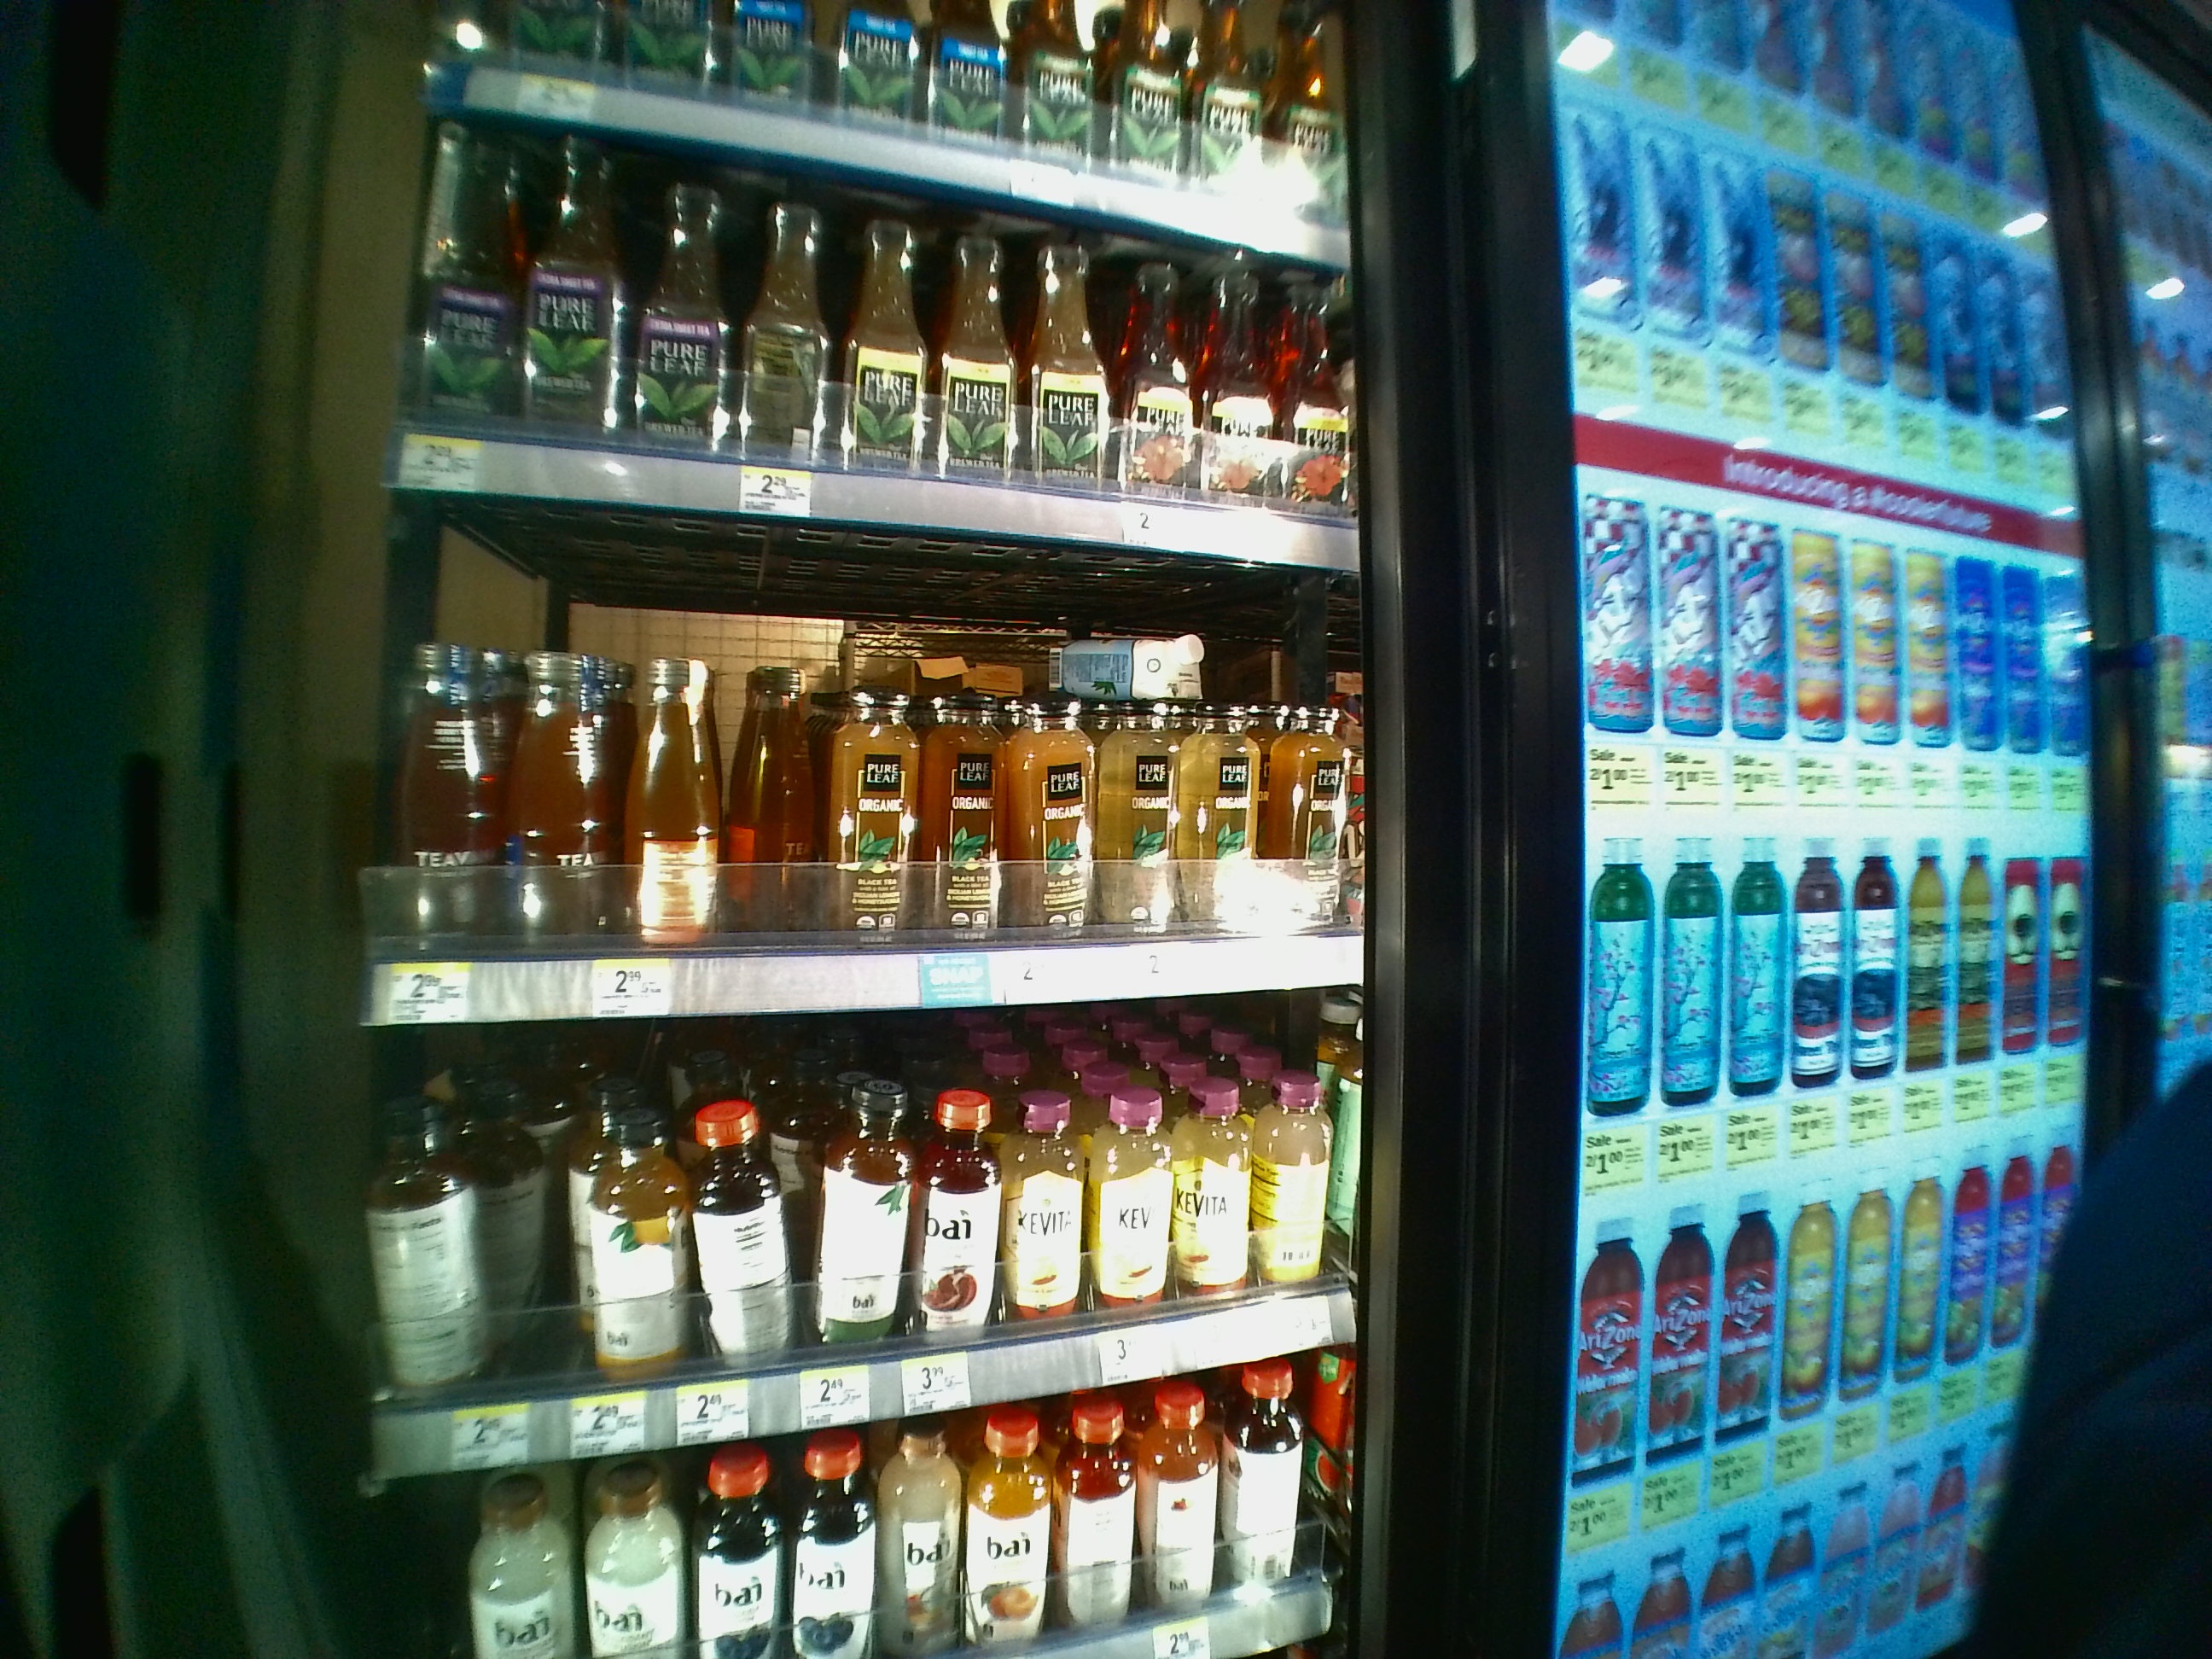shelf: (359, 505, 1371, 1025), (357, 1033, 1376, 1481)
